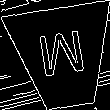M_S: (35, 29, 90, 86)
